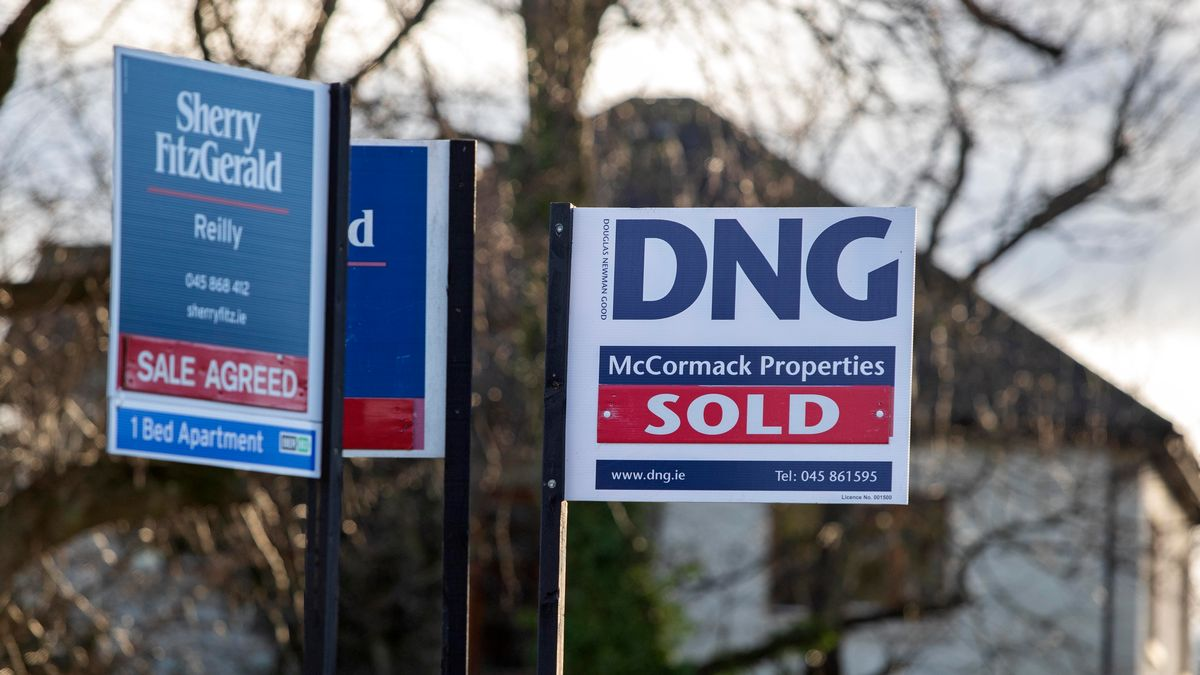property sign: (545, 176, 936, 521), (88, 17, 339, 490)
